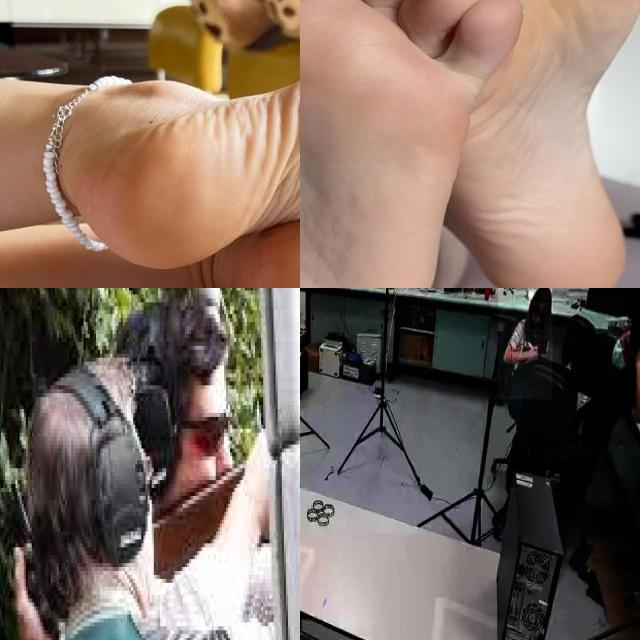Barefoots: (362, 0, 640, 288), (300, 0, 534, 288), (72, 70, 300, 267)
Ear-protection: (88, 429, 148, 563), (133, 377, 177, 496)
face_mask: (606, 334, 630, 381)
face_nomask: (530, 306, 545, 330)
glasses: (175, 405, 230, 453)
hand_noglove: (527, 343, 539, 360)
head_nohelmet: (630, 315, 640, 350), (533, 288, 551, 303)
person: (573, 311, 640, 446), (498, 288, 553, 400)
